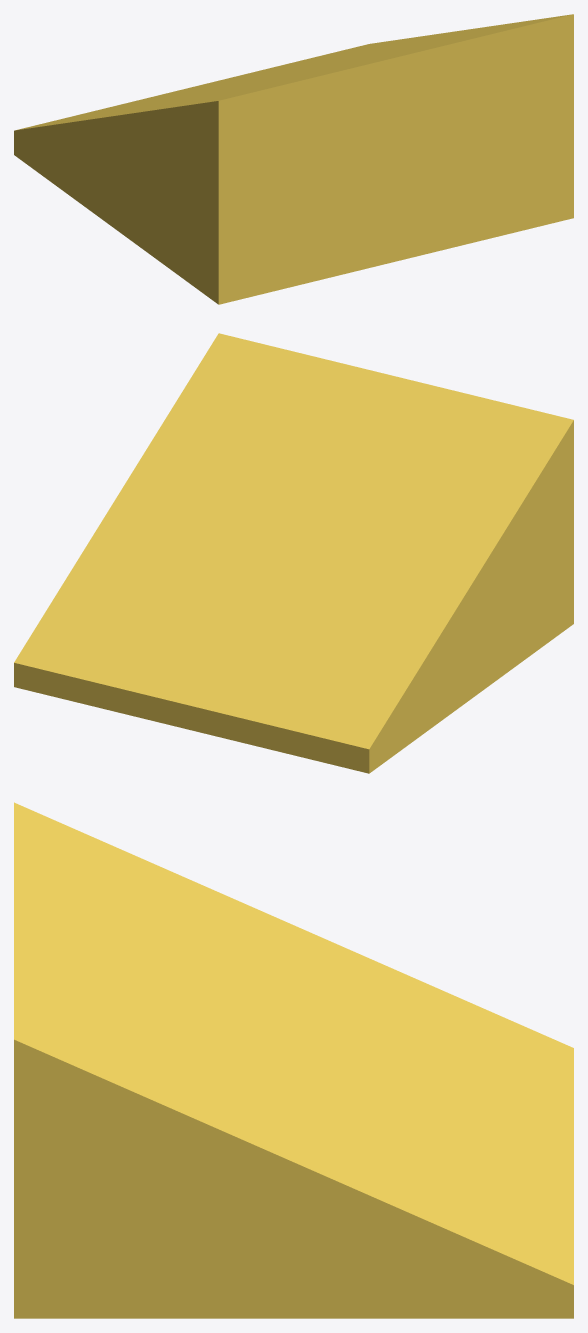
File: Jump slope.fbx
3 views of the same model, one above another, from view 1: azimuth 30°, elevation 25°; view 2: azimuth 150°, elevation 25°; view 3: azimuth 270°, elevation 25° (orthographic). The views are drawn at different scales.
Visible parts, largest first — view 1: Jump_Slope; view 2: Jump_Slope; view 3: Jump_Slope.
Boxes of the visible parts, bbox=[...] form: Jump_Slope: bbox=[14, 14, 573, 304]; Jump_Slope: bbox=[14, 333, 573, 773]; Jump_Slope: bbox=[14, 802, 573, 1318].
Bounding box in the file's own units: 460 × 252 × 459.
1 material, 1 textured.
